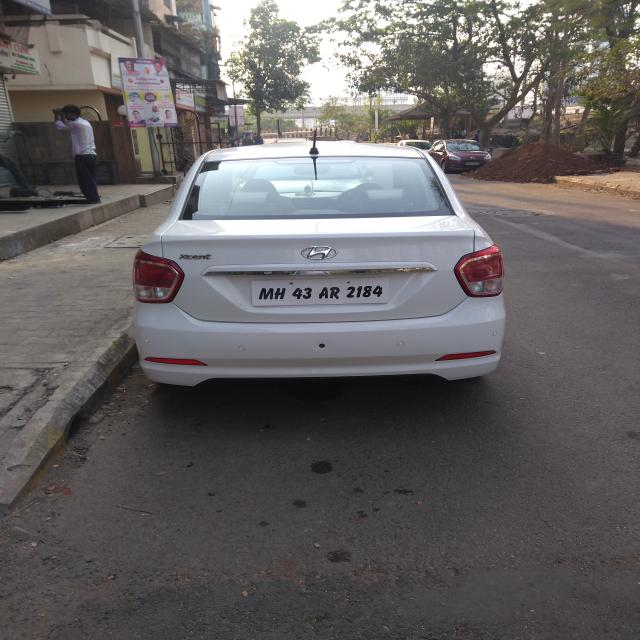Number-Plate: (257, 274, 384, 306)
